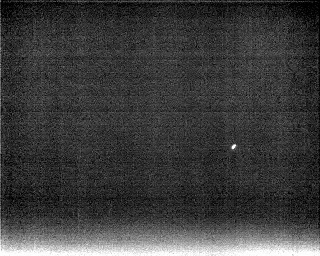BIRD: (229, 141, 239, 153)
